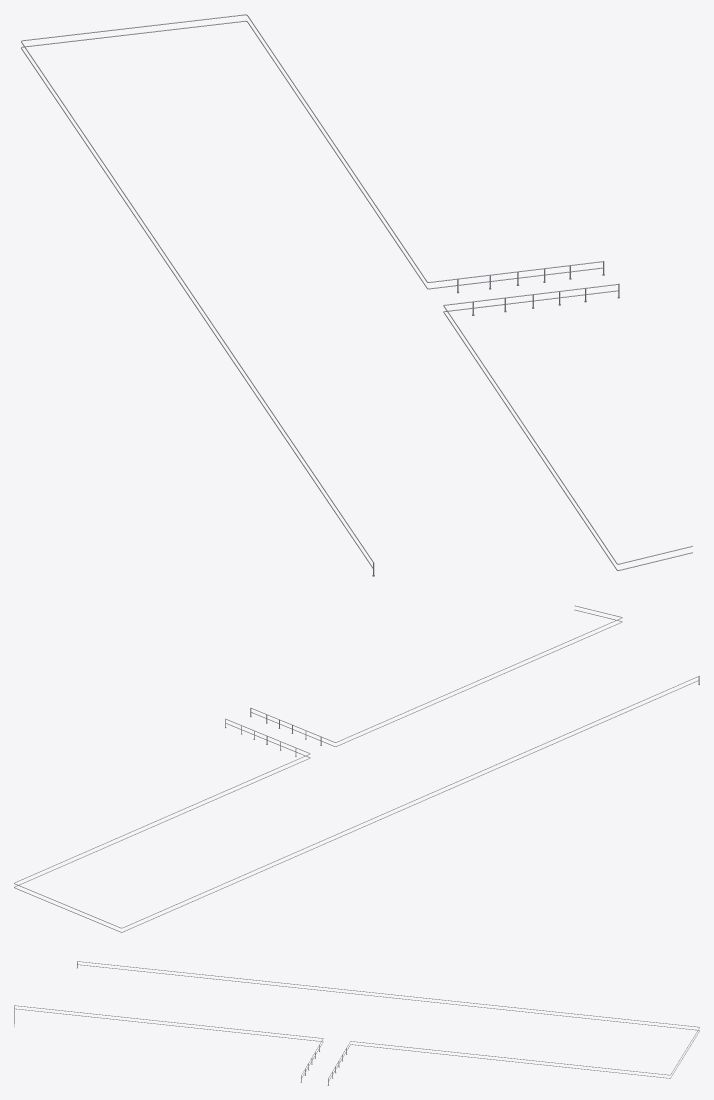
Rendered from pasamanos.glb.
The picture shows the model from 3 angles, top to bottom: view 1: azimuth 30°, elevation 25°; view 2: azimuth 150°, elevation 25°; view 3: azimuth 270°, elevation 25°; orthographic projection. The views are drawn at different scales.
Parts seen in each view (by area): view 1: Cilindro.002; view 2: Cilindro.002; view 3: Cilindro.002.
Part boxes in pixels (x1=…): Cilindro.002: x1=21, y1=14, x2=692, y2=576; Cilindro.002: x1=14, y1=605, x2=699, y2=932; Cilindro.002: x1=14, y1=961, x2=699, y2=1085.
Bounding box in the file's own units: 207 × 5.81 × 509.
Materials: 1 (1 with a texture image).
